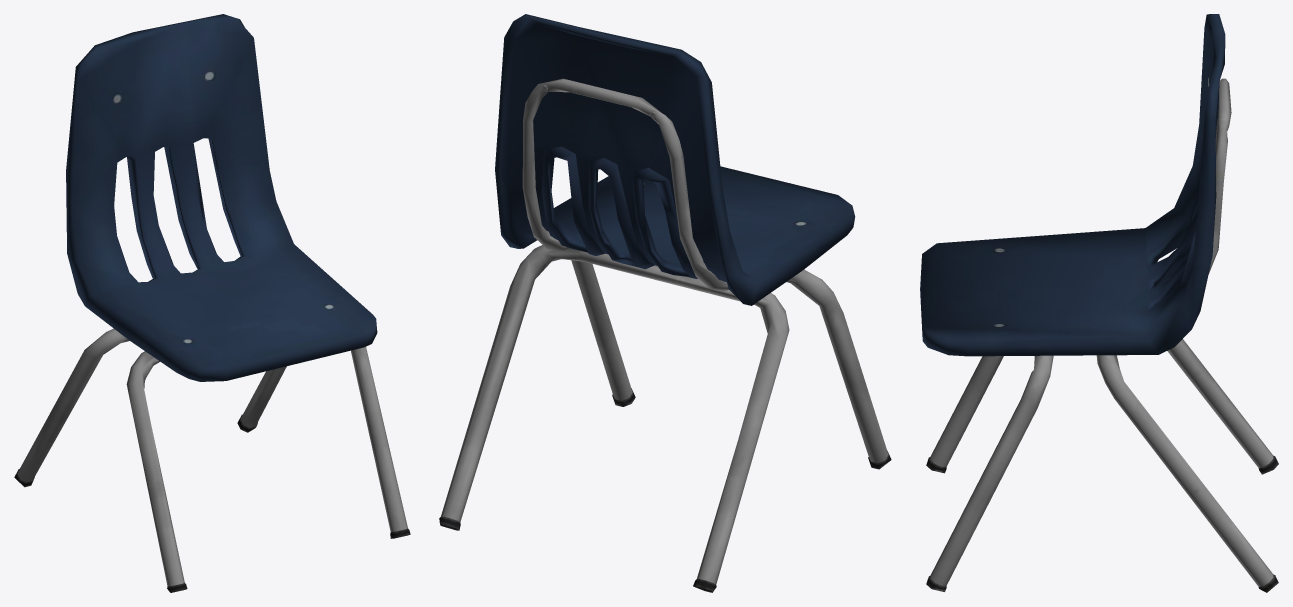
File: SchoolChair_01.glb
3 renders of one model, left to right at view 1: azimuth 30°, elevation 25°; view 2: azimuth 150°, elevation 25°; view 3: azimuth 270°, elevation 25°, orthographic. The views are drawn at different scales.
Parts seen in each view (by area): view 1: SchoolChair_01; view 2: SchoolChair_01; view 3: SchoolChair_01.
Part boxes in pixels (<box>): SchoolChair_01: <box>14,14,410,592</box>; SchoolChair_01: <box>439,14,891,592</box>; SchoolChair_01: <box>920,14,1278,592</box>.
Size of the model in its own units: 0.5659 by 1 by 0.673.
1 material, 1 textured.
